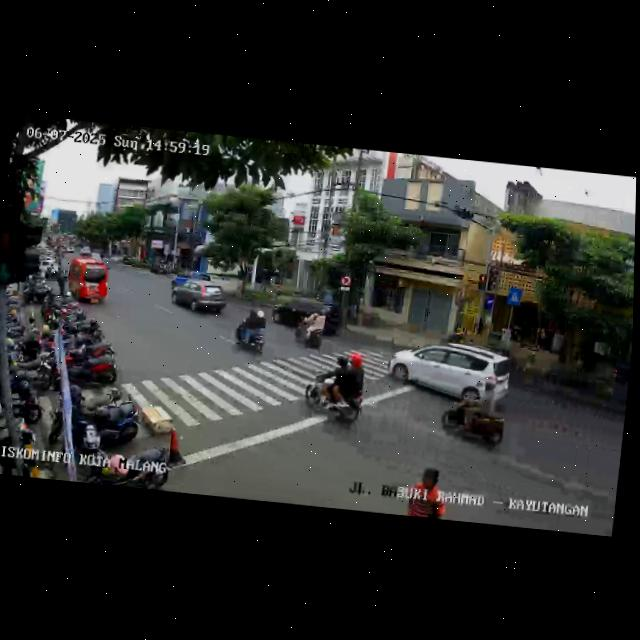car: (389, 335, 512, 407), (270, 293, 331, 340), (340, 342, 395, 389), (62, 256, 111, 307), (170, 276, 229, 318)
motorcycle: (436, 378, 512, 453), (298, 349, 370, 426), (232, 305, 270, 354), (292, 302, 327, 350)
person: (405, 464, 450, 519)
